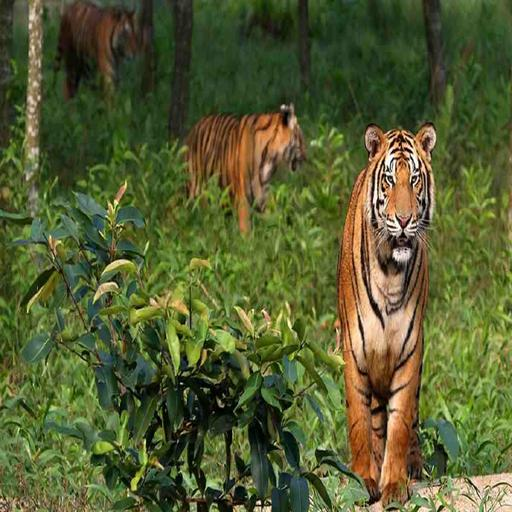Tiger: (326, 120, 454, 512), (172, 96, 318, 258), (38, 0, 149, 123)
